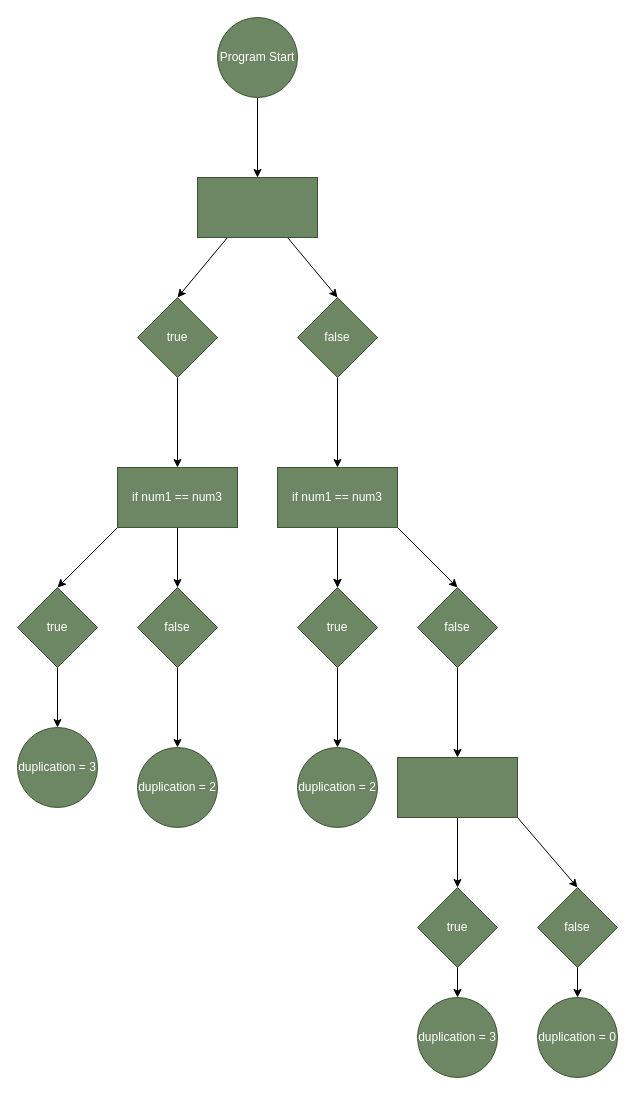
Image size: 635x1095. Some labels were removed from this diagram. Here are the shapes that lost their labels. From the top down, the centre of each, then its label:
At point (257, 207): "if num1 == num2".
At point (457, 787): "if num2 == num3".
